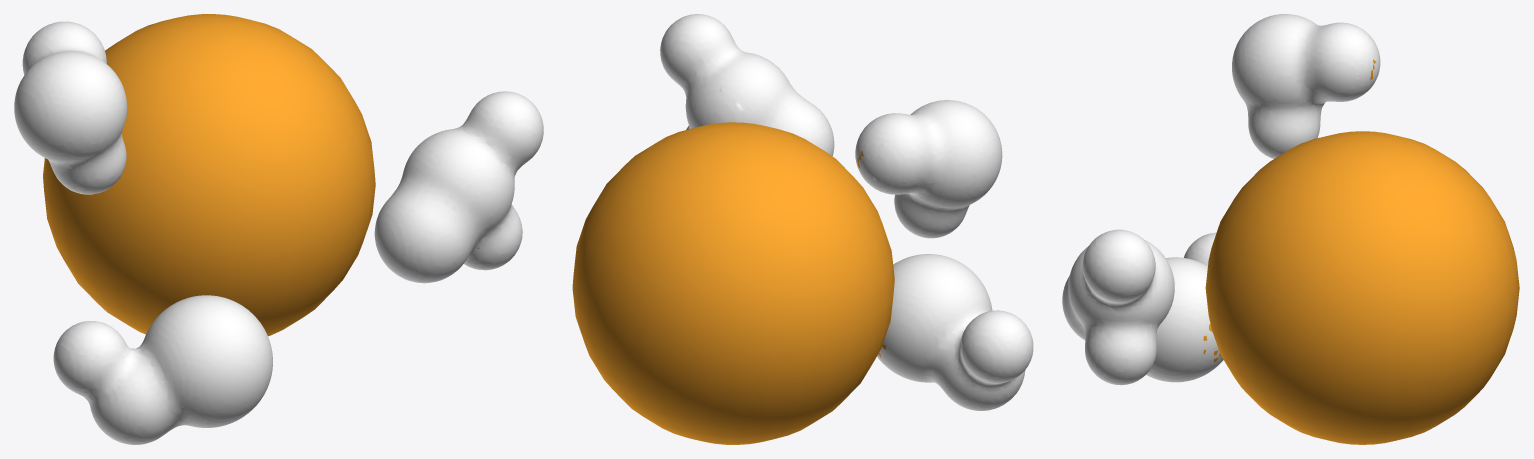
File: cloudBlob.glb
3 views of the same model, side by side, from view 1: azimuth 30°, elevation 25°; view 2: azimuth 150°, elevation 25°; view 3: azimuth 270°, elevation 25° (orthographic). The views are drawn at different scales.
Parts seen in each view (by area): view 1: Sphere; view 2: Sphere; view 3: Sphere.
Boxes of the visible parts, x1=… form: Sphere: x1=14, y1=14, x2=543, y2=444; Sphere: x1=572, y1=14, x2=1033, y2=444; Sphere: x1=1062, y1=14, x2=1519, y2=444.
Size of the model in its own units: 27.18 by 21.53 by 26.68.
